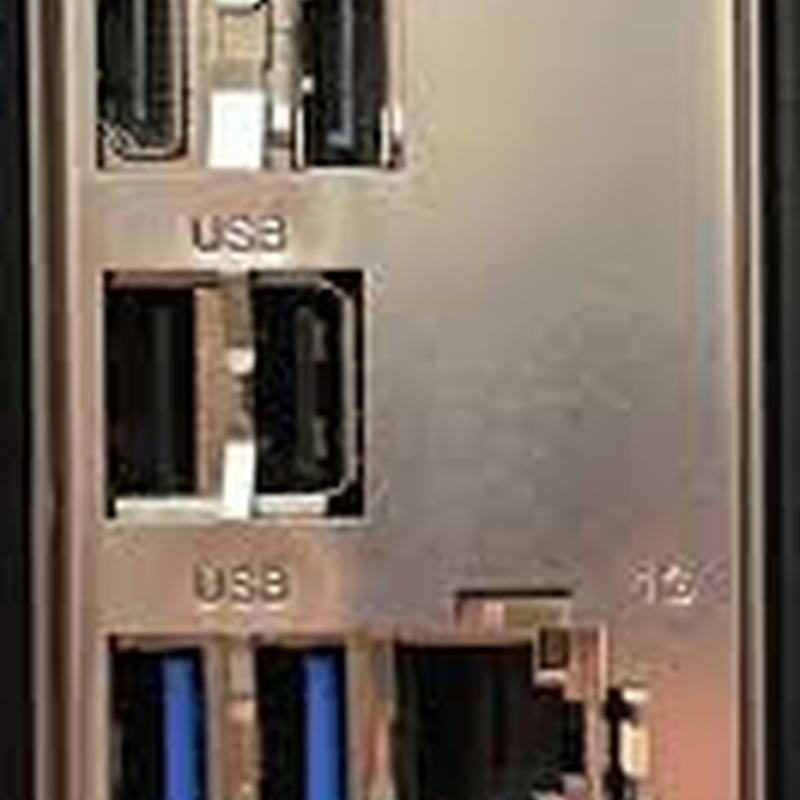ETHERNET: (376, 576, 658, 799)
USB: (87, 243, 235, 555), (242, 252, 379, 558), (85, 603, 236, 799), (237, 614, 360, 799)
